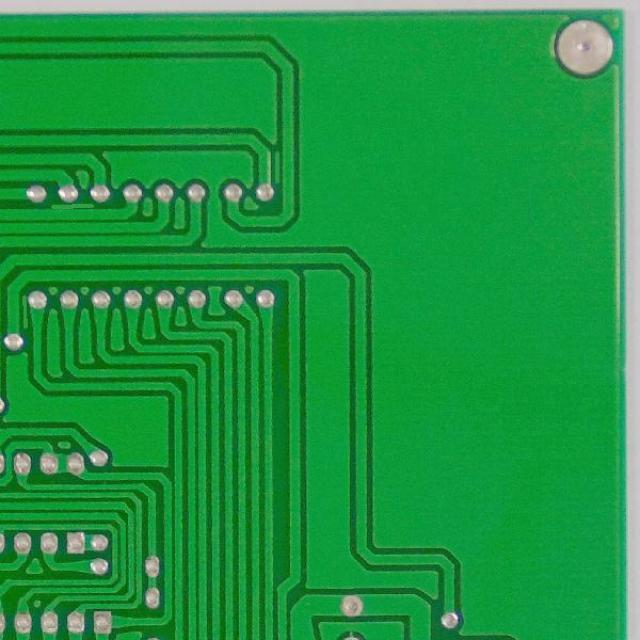Spurious_Cooper: (270, 148, 283, 187), (49, 200, 97, 210)
